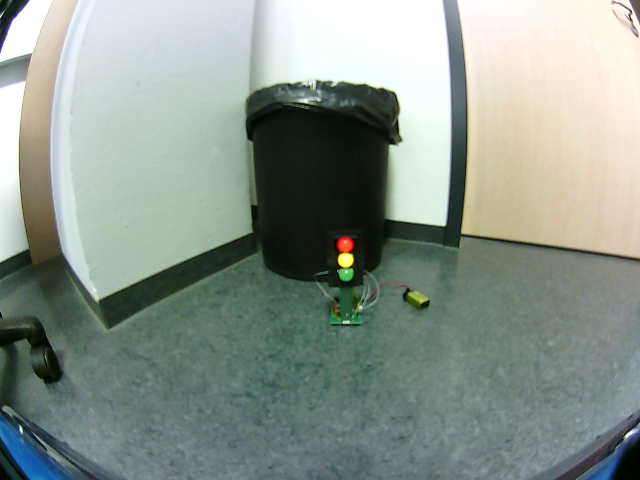red yellow trafficlight: (333, 237, 354, 283)
